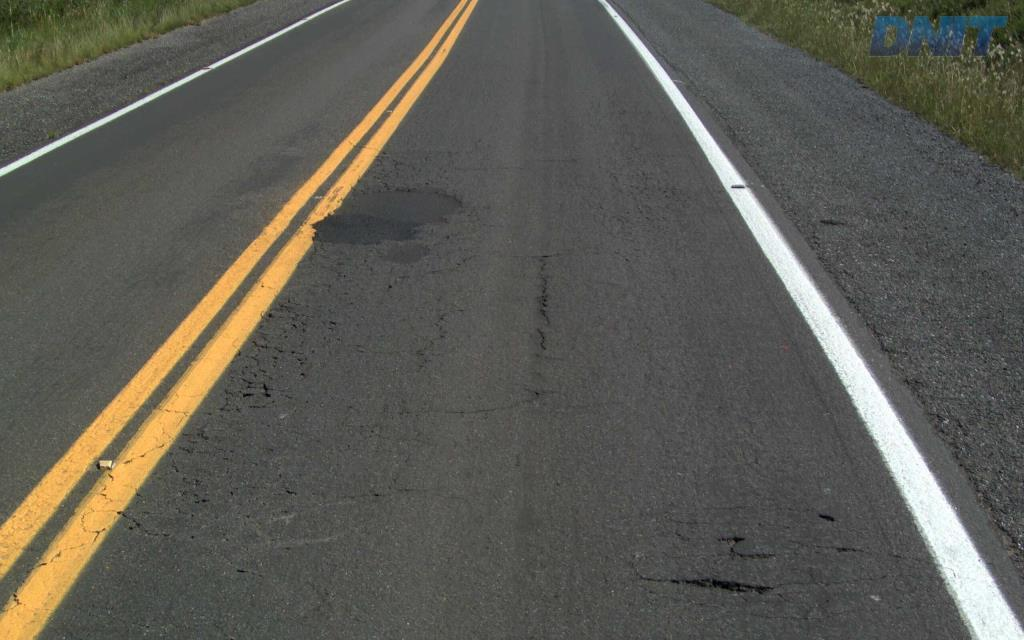crack: (635, 570, 784, 593), (716, 534, 776, 560)
